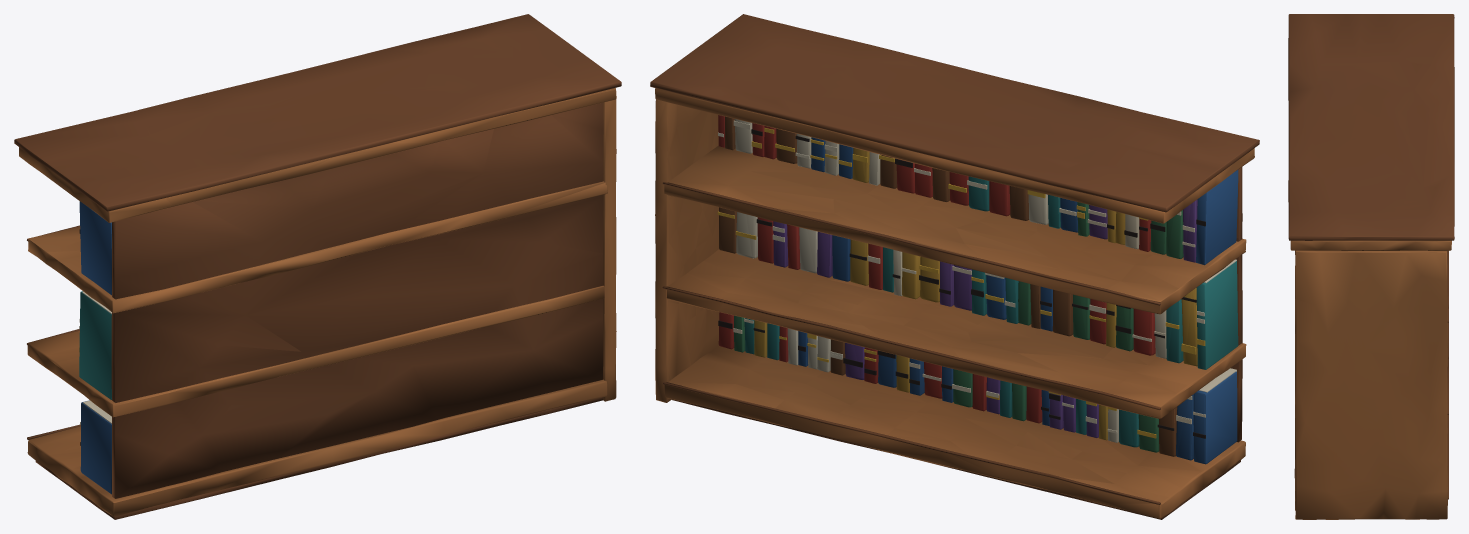
The model's file is den_bookshelf_lod1.glb.
3 views of the same model, side by side, from view 1: azimuth 30°, elevation 25°; view 2: azimuth 150°, elevation 25°; view 3: azimuth 270°, elevation 25° (orthographic). The views are drawn at different scales.
Parts seen in each view (by area): view 1: den_bookshelf.001; view 2: den_bookshelf.001; view 3: den_bookshelf.001.
Part boxes in pixels (left/top/right/bottom): den_bookshelf.001: left=14, top=14, right=621, bottom=519; den_bookshelf.001: left=650, top=14, right=1259, bottom=519; den_bookshelf.001: left=1288, top=14, right=1454, bottom=519.
Size of the model in its own units: 62.44 by 37.16 by 19.64.
